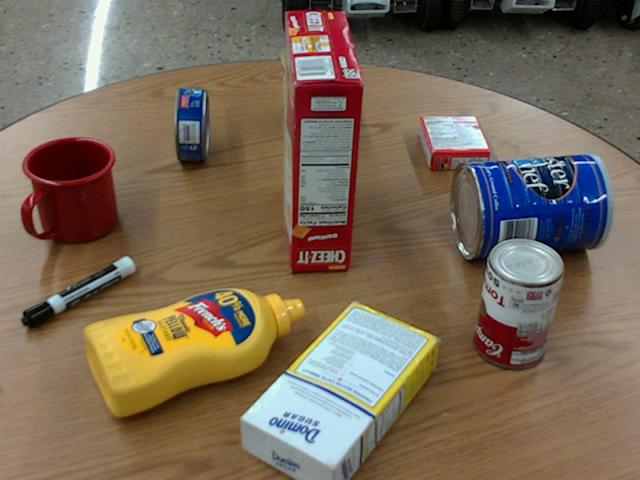cracker_box: (282, 10, 364, 271)
gelatin_box: (418, 115, 490, 169)
large_marker: (21, 255, 134, 327)
master_chef_can: (450, 151, 613, 258)
mug: (22, 137, 117, 243)
mustard_bottle: (83, 286, 303, 417)
potted_meat_can: (278, 48, 334, 144)
sugar_box: (239, 301, 438, 479)
tomato_soup_can: (475, 235, 564, 366)
tuna_fish_can: (174, 87, 208, 160)
